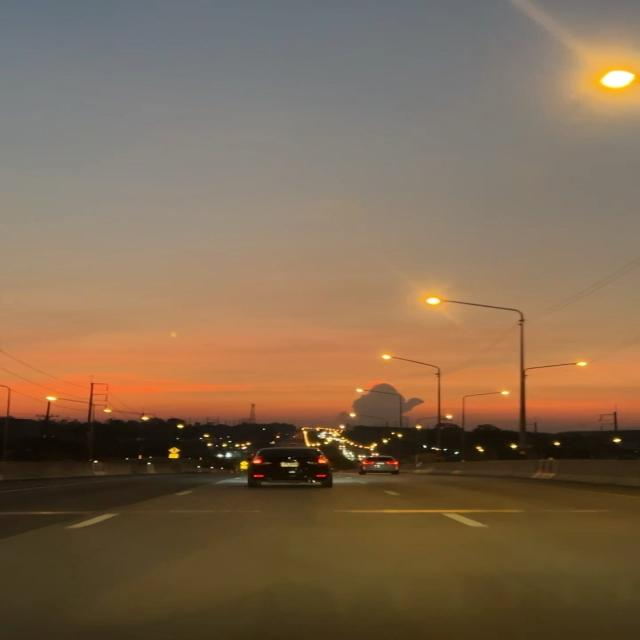Poth-hole: (189, 474, 631, 637)
